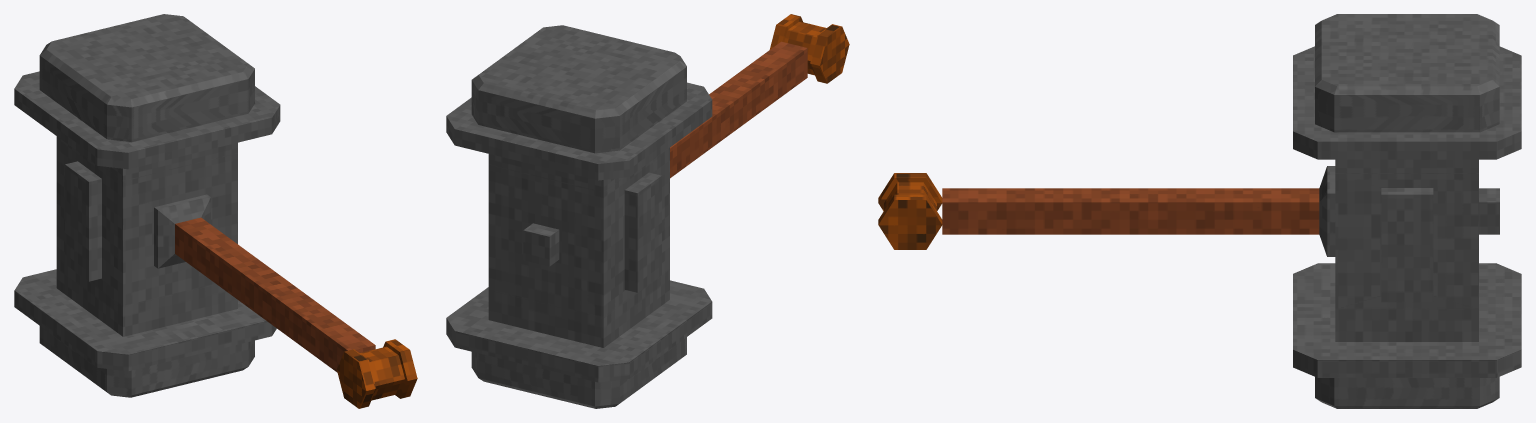
Rendered from Hammer2.fbx.
3 views of the same model, side by side, from view 1: azimuth 30°, elevation 25°; view 2: azimuth 150°, elevation 25°; view 3: azimuth 270°, elevation 25° (orthographic). The views are drawn at different scales.
Visible parts, largest first — view 1: molot, ruchka, base; view 2: molot, ruchka, base; view 3: molot, ruchka, base.
Boxes of the visible parts, x1,y1,x2,y2 form: molot: (14,14,280,397); ruchka: (175,217,375,372); base: (336,339,417,408); molot: (446,25,712,408); ruchka: (670,41,807,178); base: (769,14,849,83); molot: (1293,14,1521,408); ruchka: (942,188,1319,234); base: (878,173,942,249).
Size of the model in its own units: 248 by 385 by 696.
1 material, 1 textured.
